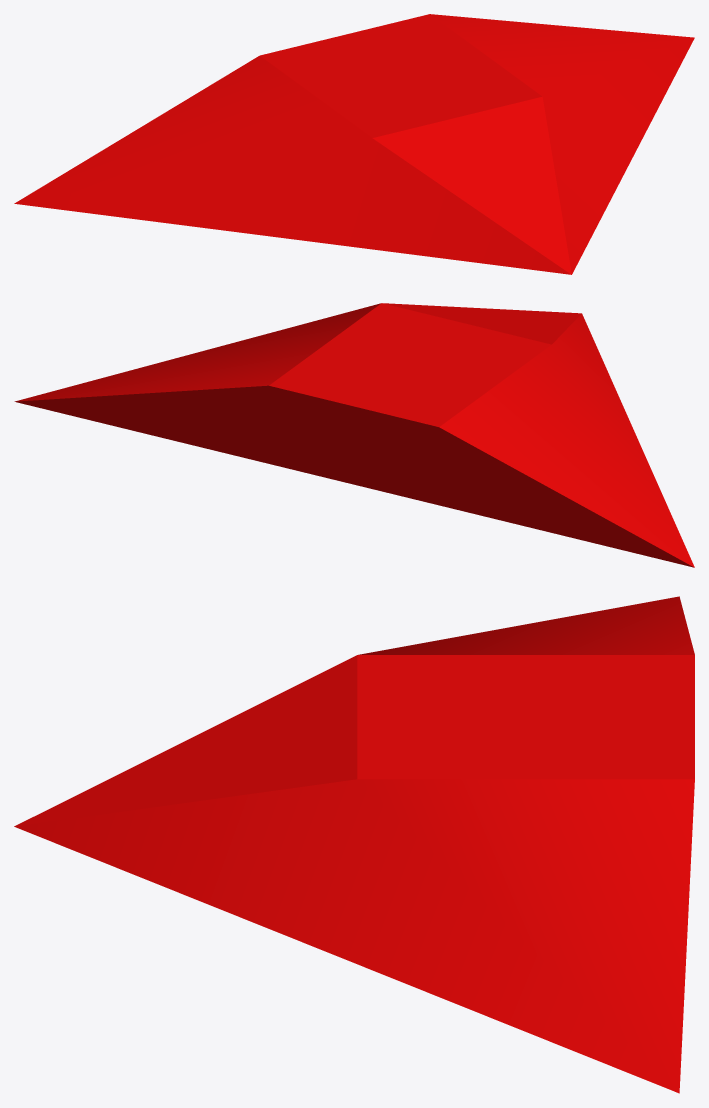
The picture shows the model from 3 angles, top to bottom: view 1: azimuth 30°, elevation 25°; view 2: azimuth 150°, elevation 25°; view 3: azimuth 270°, elevation 25°; orthographic projection. The views are drawn at different scales.
Parts seen in each view (by area): view 1: pCube1; view 2: pCube1; view 3: pCube1.
Boxes of the visible parts, left/top/right/bottom form: pCube1: left=14, top=14, right=694, bottom=274; pCube1: left=14, top=303, right=694, bottom=567; pCube1: left=14, top=596, right=694, bottom=1093.
Bounding box in the file's own units: 8.3 × 0.9692 × 4.8.
